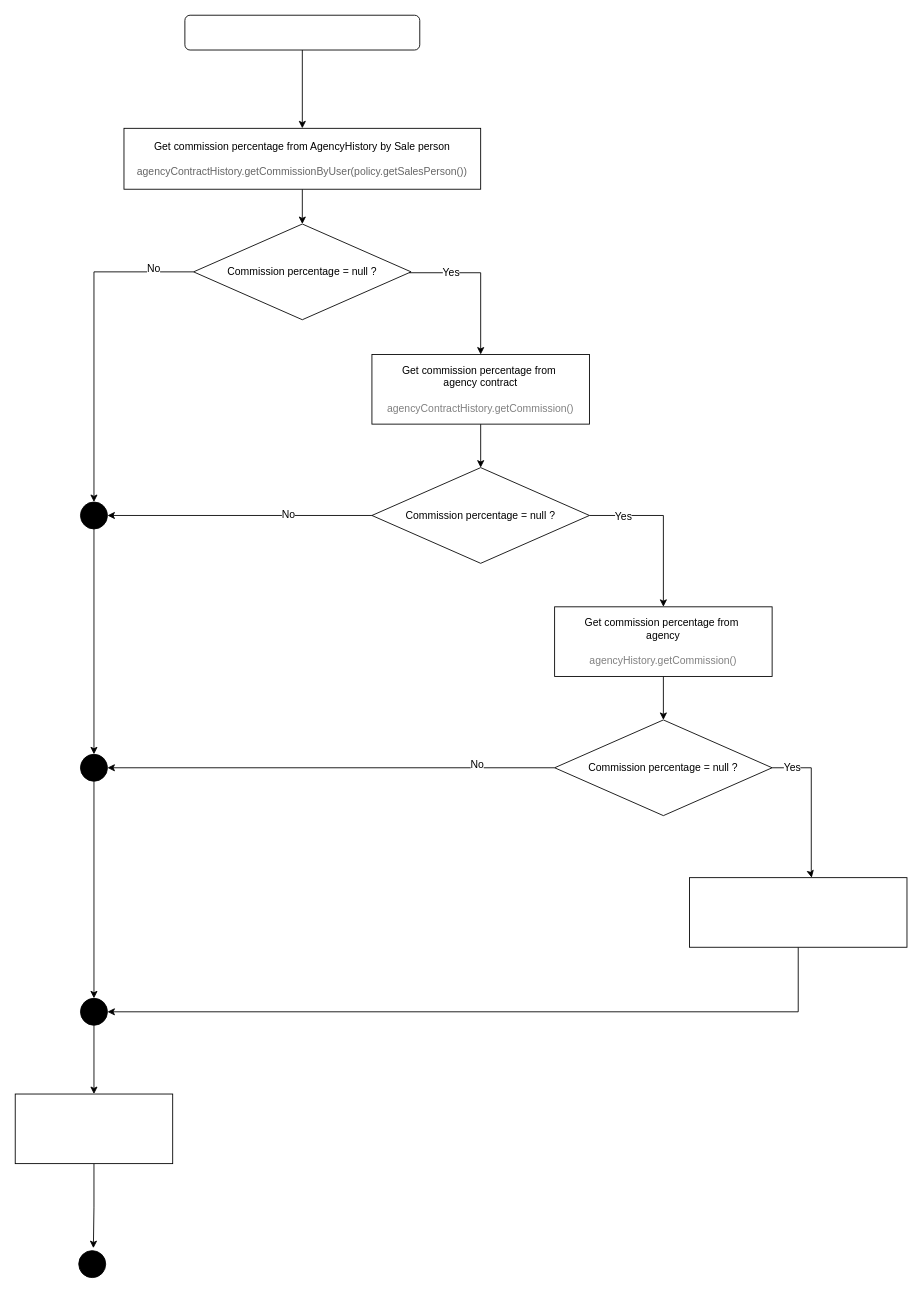
Some shapes in this 922 by 1293 pixel diagram are drawn without their labels. The centre of each missing label's shape, as x and y in pixels:
"Commission percentage = 0" goes at pixel 798 912.
"Do calculation ........" goes at pixel 93 1128.
"Start get commission percentage" goes at pixel 302 32.
